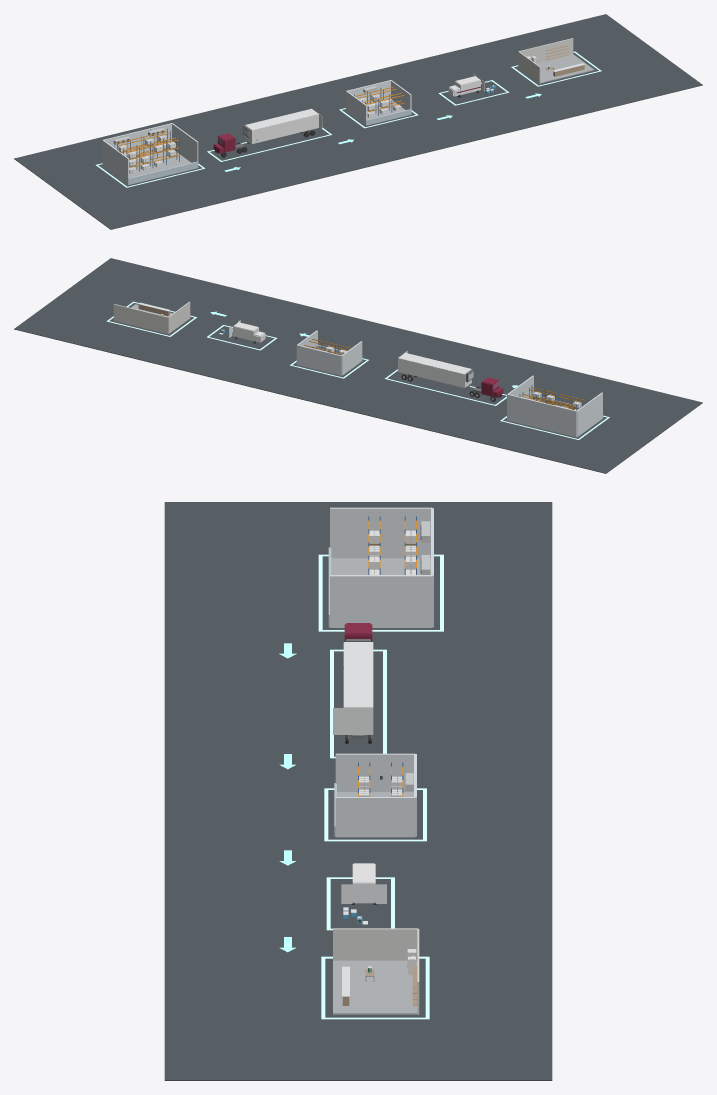
The model's file is redfria.glb.
The picture shows the model from 3 angles, top to bottom: view 1: azimuth 30°, elevation 25°; view 2: azimuth 150°, elevation 25°; view 3: azimuth 270°, elevation 25°; orthographic projection. The views are drawn at different scales.
Parts seen in each view (by area): view 1: RF_Suelo, RF_cnd_RF_PanelFrio, RF_reefer_RF_Remolque, RF_estatal_RF_PanelFrio, RF_unidad_RF_Muro, RF_UM_Piso, RF_cnd_RF_Larguero, RF_CN_Piso, RF_cnd_RF_PanelFrioOsc, RF_caja_RF_Camioneta, RF_cnd_RF_Acero, RF_unidad_RF_Mueble (+1 smaller); view 2: RF_Suelo, RF_cnd_RF_PanelFrio, RF_estatal_RF_PanelFrio, RF_reefer_RF_Remolque, RF_unidad_RF_Muro, RF_caja_RF_Camioneta, RF_cnd_RF_Larguero, RF_reefer_RF_Cabina; view 3: RF_Suelo, RF_cnd_RF_PanelFrio, RF_estatal_RF_PanelFrio, RF_UM_Piso, RF_reefer_RF_Remolque, RF_unidad_RF_Muro, RF_caja_RF_Camioneta, RF_CN_Piso, RF_Aro_unidad, RF_Aro_cnd, RF_Aro_reefer.
Part boxes in pixels (x1,y1,x2,y2): RF_Suelo: (14,14,702,229); RF_cnd_RF_PanelFrio: (102,123,198,184); RF_reefer_RF_Remolque: (245,108,322,143); RF_estatal_RF_PanelFrio: (346,80,411,125); RF_unidad_RF_Muro: (518,38,573,83); RF_UM_Piso: (536,54,594,83); RF_cnd_RF_Larguero: (115,131,179,167); RF_CN_Piso: (129,149,191,177); RF_cnd_RF_PanelFrioOsc: (109,126,198,184); RF_caja_RF_Camioneta: (448,74,484,96); RF_cnd_RF_Acero: (114,128,179,171); RF_unidad_RF_Mueble: (545,45,584,76); RF_Suelo: (14,258,702,473); RF_cnd_RF_PanelFrio: (507,375,602,437); RF_estatal_RF_PanelFrio: (296,330,362,375); RF_reefer_RF_Remolque: (398,351,471,387); RF_unidad_RF_Muro: (113,301,190,333); RF_caja_RF_Camioneta: (229,320,265,342); RF_cnd_RF_Larguero: (520,387,584,409); RF_reefer_RF_Cabina: (481,377,503,397); RF_Suelo: (164,502,552,1080); RF_cnd_RF_PanelFrio: (330,507,433,627); RF_estatal_RF_PanelFrio: (335,753,416,837); RF_UM_Piso: (333,960,418,1014); RF_reefer_RF_Remolque: (333,642,373,734); RF_unidad_RF_Muro: (333,928,419,1014); RF_caja_RF_Camioneta: (341,863,386,903); RF_CN_Piso: (331,558,430,574); RF_Aro_unidad: (321,956,429,1019); RF_Aro_cnd: (318,554,443,631); RF_Aro_reefer: (330,649,386,758).
Size of the model in its own units: 120 by 5.1 by 34.
